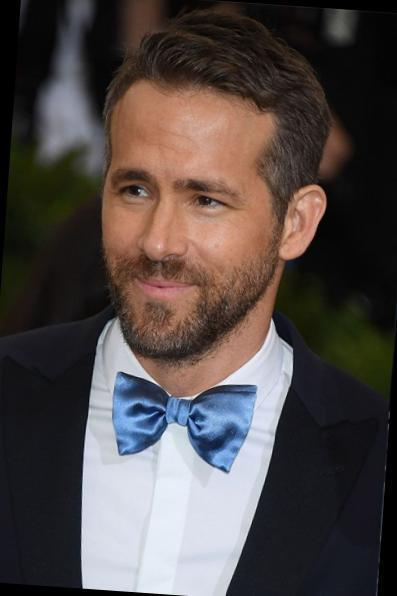Sober: (108, 107, 258, 331)
